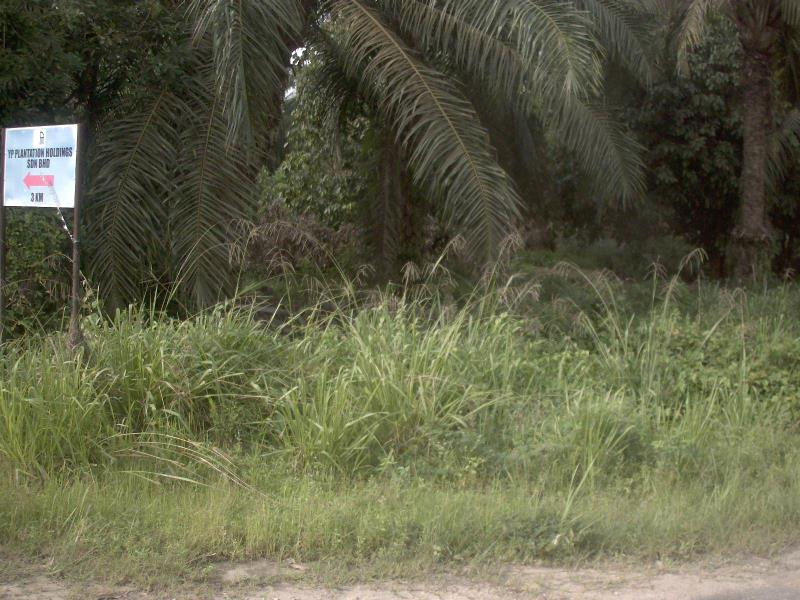ads_sign: (3, 118, 87, 215)
